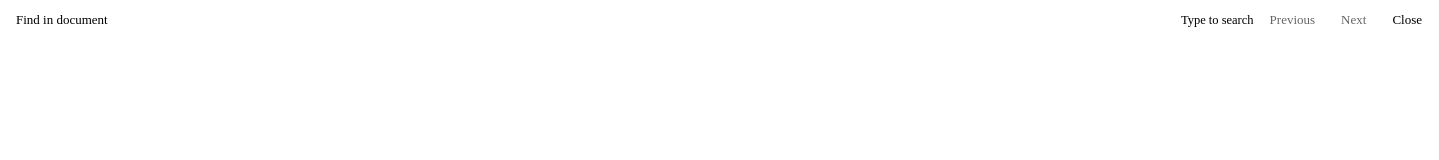
find in document › wraps past the last match and before the first
Type "a" into the search field at coordinates (591, 20), box [8,6,1175,34]
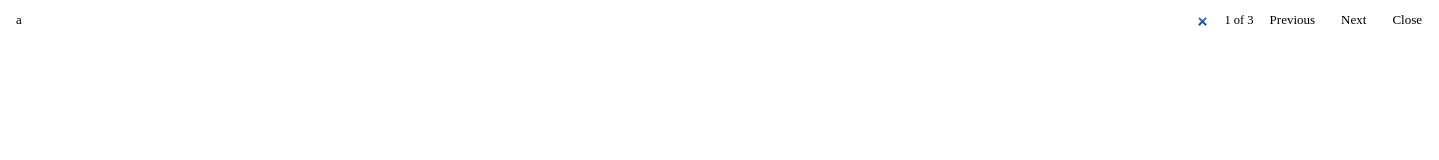
Click the button with aria-label "Previous match" at coordinates (1292, 20), box [1260,6,1325,34]
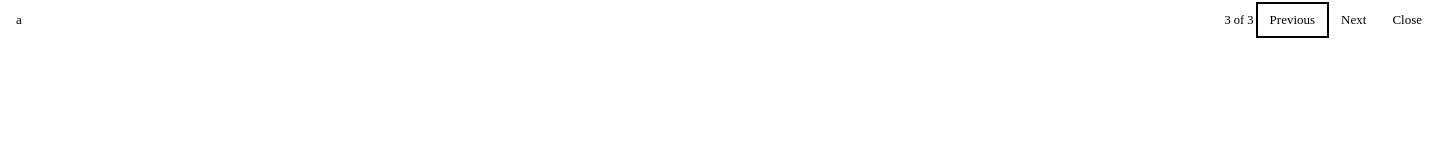
Now the message reads "3 of 3", box [1224,13,1254,27]
Click the button with aria-label "Next match" at coordinates (1354, 20), box [1331,6,1376,34]
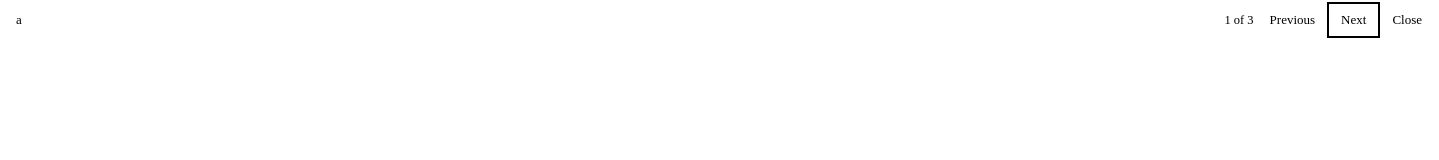
Now the message reads "1 of 3", box [1224,13,1254,27]
